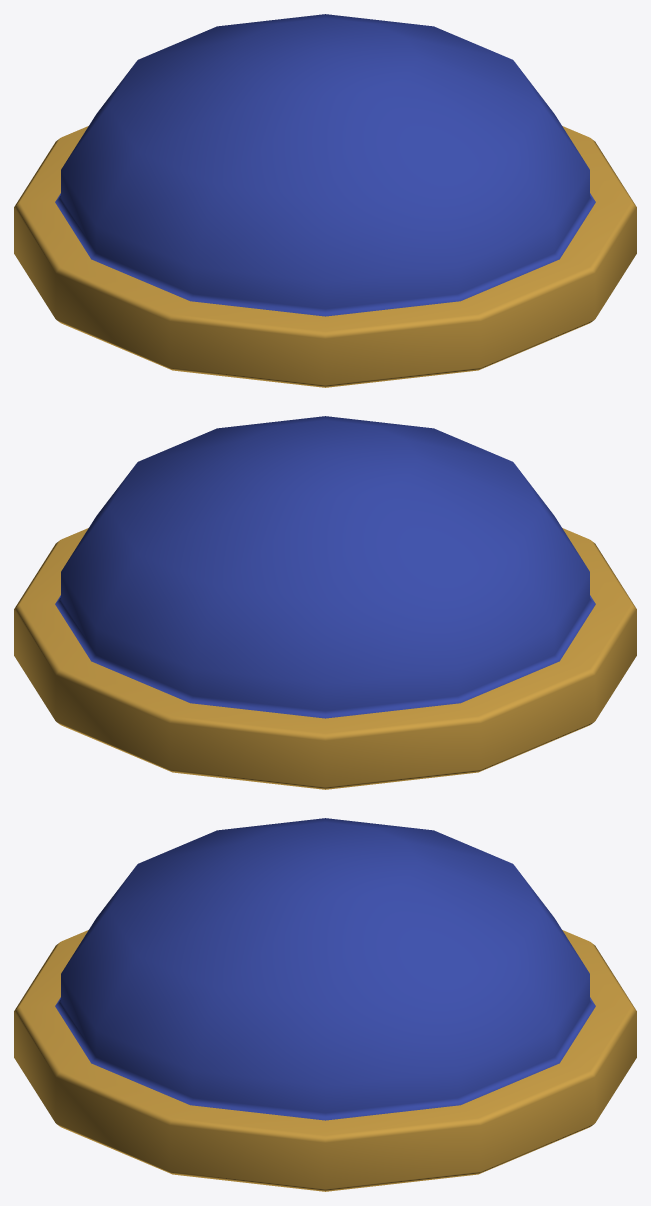
File: stage_icon_model.fbx
The picture shows the model from 3 angles, top to bottom: view 1: azimuth 30°, elevation 25°; view 2: azimuth 150°, elevation 25°; view 3: azimuth 270°, elevation 25°; orthographic projection.
Parts seen in each view (by area): view 1: pCylinder1; view 2: pCylinder1; view 3: pCylinder1.
Part boxes in pixels (left/top/right/bottom): pCylinder1: left=14, top=14, right=636, bottom=387; pCylinder1: left=14, top=416, right=636, bottom=789; pCylinder1: left=14, top=818, right=636, bottom=1191.
Bounding box in the file's own units: 2 × 0.7327 × 2.
